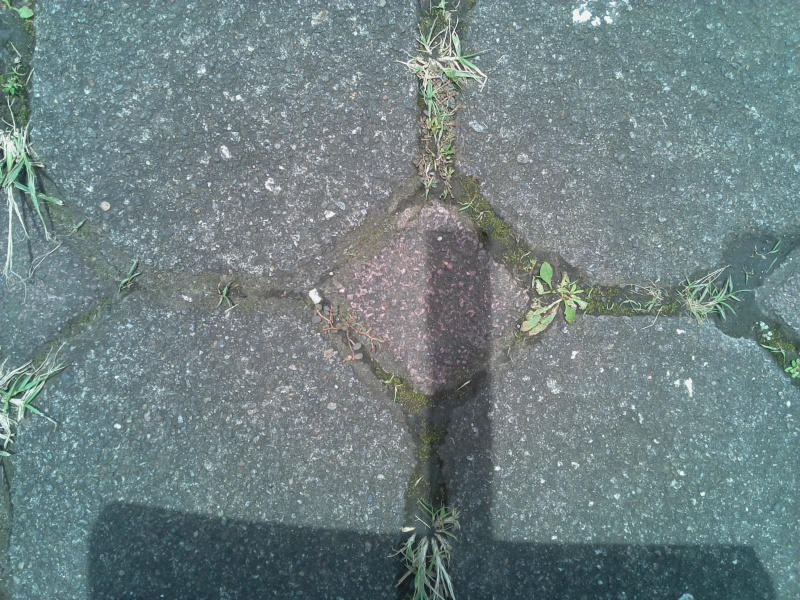Weed: (1, 91, 58, 237), (401, 23, 487, 112), (396, 501, 468, 600), (515, 261, 587, 341), (636, 272, 736, 329), (417, 77, 467, 191), (1, 351, 38, 458), (212, 280, 243, 314), (120, 265, 143, 291)
